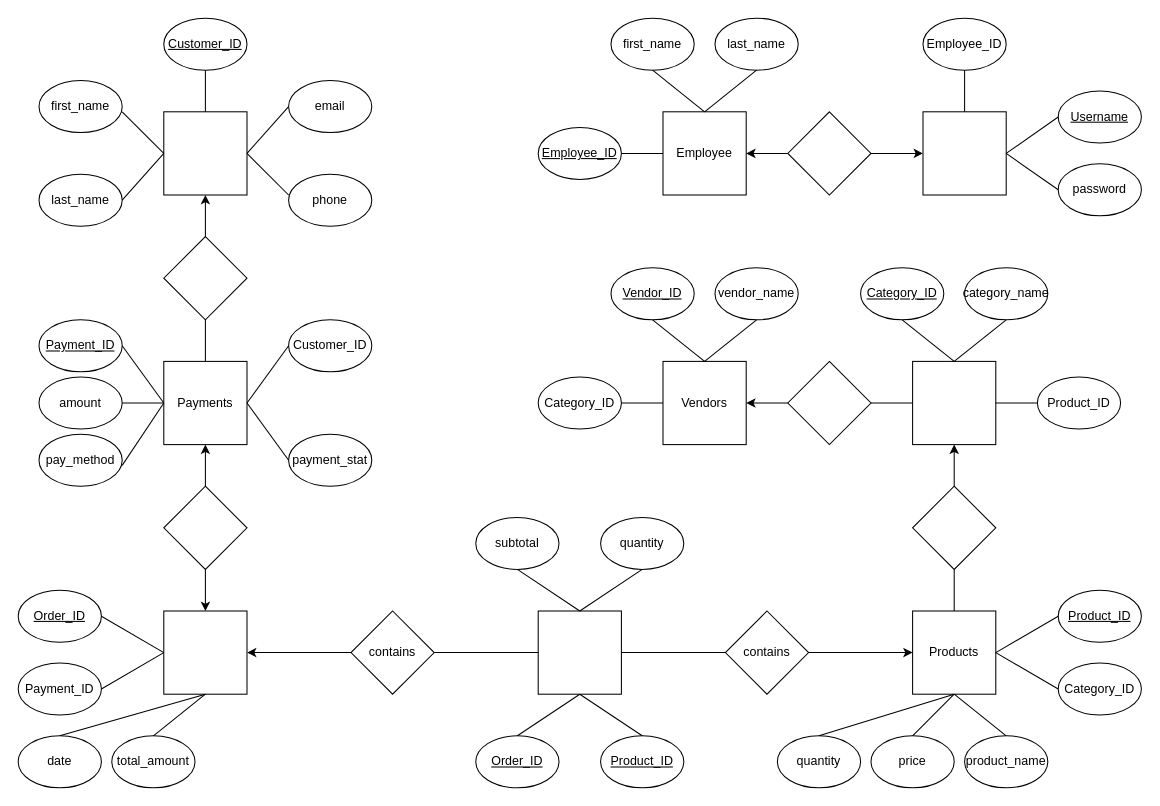
Image size: 1160x806. Some labels were removed from this diagram. The shapes that lost their labels are listed below. From the top down, each one's box as (x1, y1, x2, y2) in pixels, then its label:
(163, 111, 247, 195): Customers
(787, 111, 871, 195): uses
(922, 111, 1006, 195): Login_Creds
(163, 236, 247, 320): makes
(787, 360, 871, 445): sold by
(912, 360, 996, 445): Categories
(163, 485, 247, 569): creates
(912, 485, 996, 569): belong to
(163, 610, 247, 694): Orders
(537, 610, 621, 694): Order_Details
